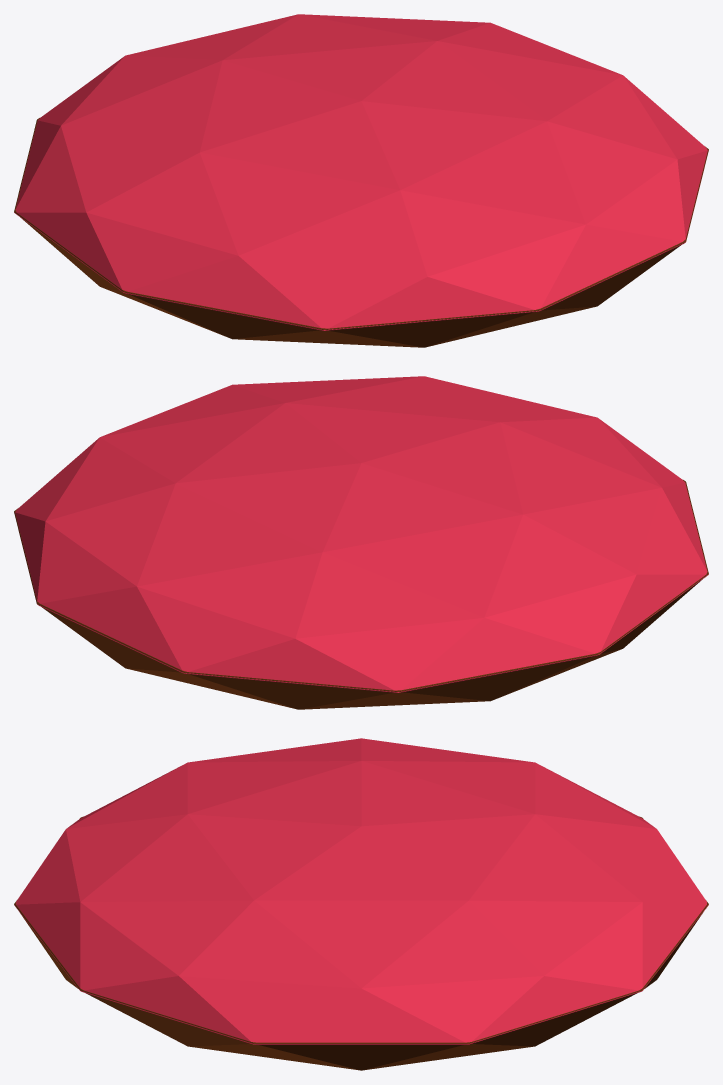
Rendered from steakBakedHalf.gltf.
3 views of the same model, one above another, from view 1: azimuth 30°, elevation 25°; view 2: azimuth 150°, elevation 25°; view 3: azimuth 270°, elevation 25° (orthographic). The views are drawn at different scales.
Visible parts, largest first — view 1: onderkant; view 2: onderkant; view 3: onderkant.
Boxes of the visible parts, bbox=[...] form: onderkant: bbox=[14, 14, 708, 347]; onderkant: bbox=[14, 376, 708, 709]; onderkant: bbox=[14, 738, 708, 1070].
Bounding box in the file's own units: 1.24 × 0.323 × 1.3.
